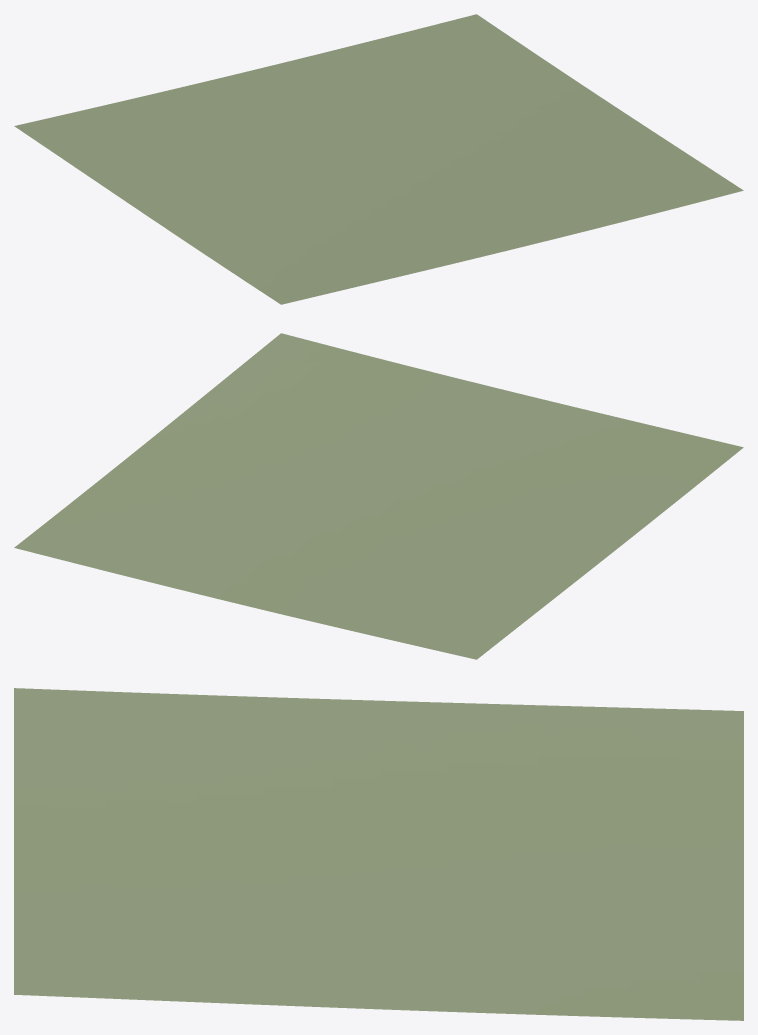
The model's file is expanse-29-0.glb.
The picture shows the model from 3 angles, top to bottom: view 1: azimuth 30°, elevation 25°; view 2: azimuth 150°, elevation 25°; view 3: azimuth 270°, elevation 25°; orthographic projection. The views are drawn at different scales.
Parts seen in each view (by area): view 1: expanse-29-0; view 2: expanse-29-0; view 3: expanse-29-0.
Part boxes in pixels (<box>): expanse-29-0: <box>14,14,743,304</box>; expanse-29-0: <box>14,333,743,659</box>; expanse-29-0: <box>14,688,743,1020</box>.
Size of the model in its own units: 256 by 10.84 by 256.
